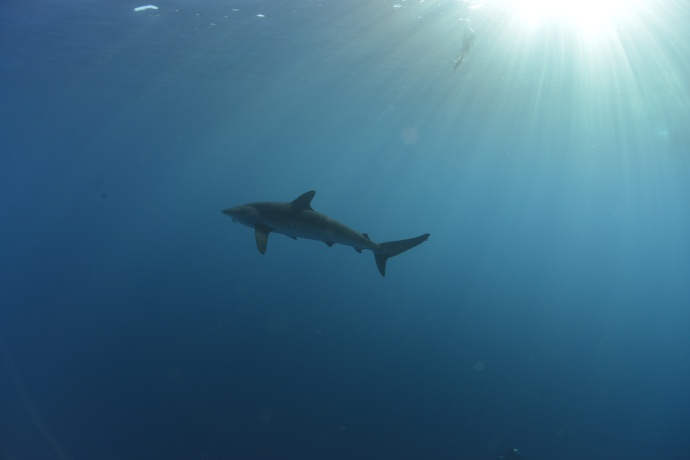Sedoso: (204, 183, 436, 282)
